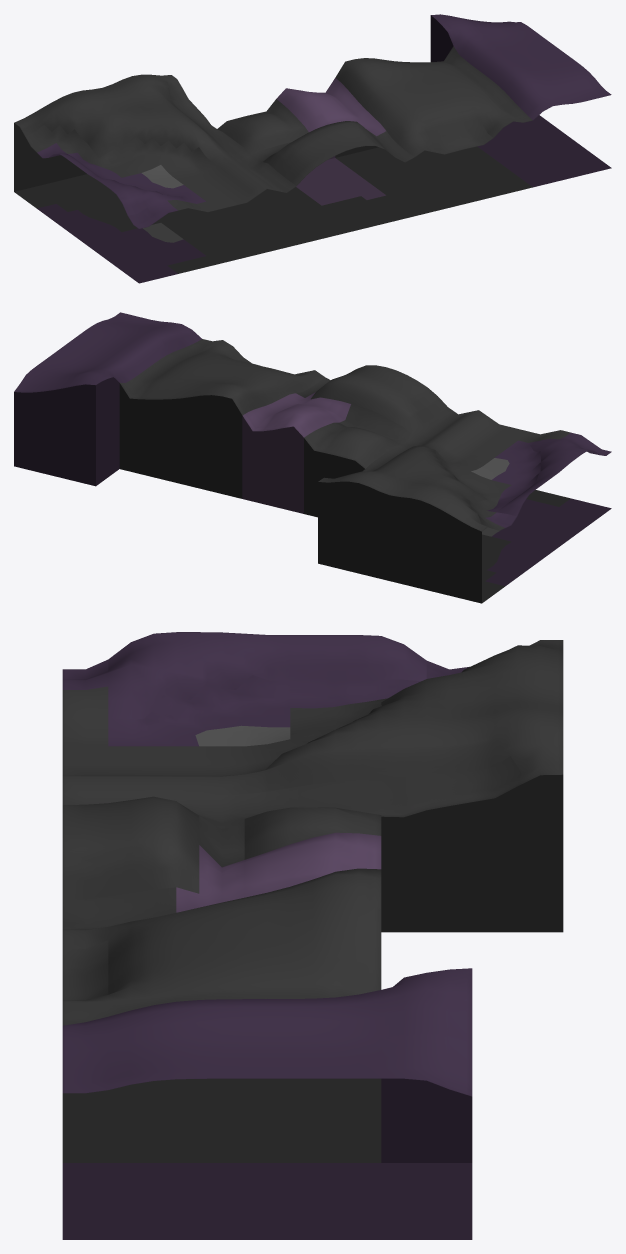
File: delbld-hull-303.glb
3 views of the same model, one above another, from view 1: azimuth 30°, elevation 25°; view 2: azimuth 150°, elevation 25°; view 3: azimuth 270°, elevation 25° (orthographic). The views are drawn at different scales.
Parts seen in each view (by area): view 1: delbld-hull-303; view 2: delbld-hull-303; view 3: delbld-hull-303.
Part boxes in pixels (<box>): delbld-hull-303: <box>14,14,611,283</box>; delbld-hull-303: <box>14,312,611,603</box>; delbld-hull-303: <box>62,632,563,1239</box>.
Bounding box in the file's own units: 2 × 0.3933 × 0.9167.
Materials: 4 (4 with a texture image).
